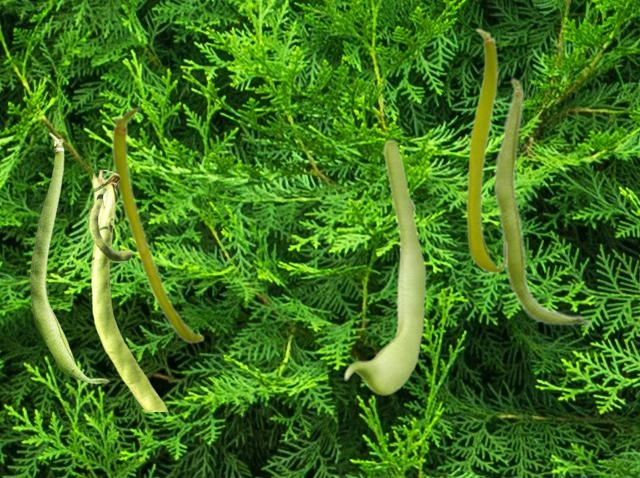french_bean: (492, 76, 591, 327), (111, 106, 204, 343), (343, 138, 425, 394), (30, 132, 108, 383), (88, 169, 167, 410), (465, 27, 507, 273)
